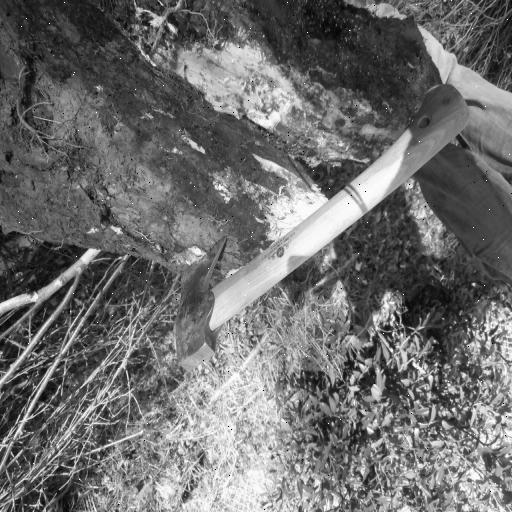Axe: (170, 83, 474, 371)
